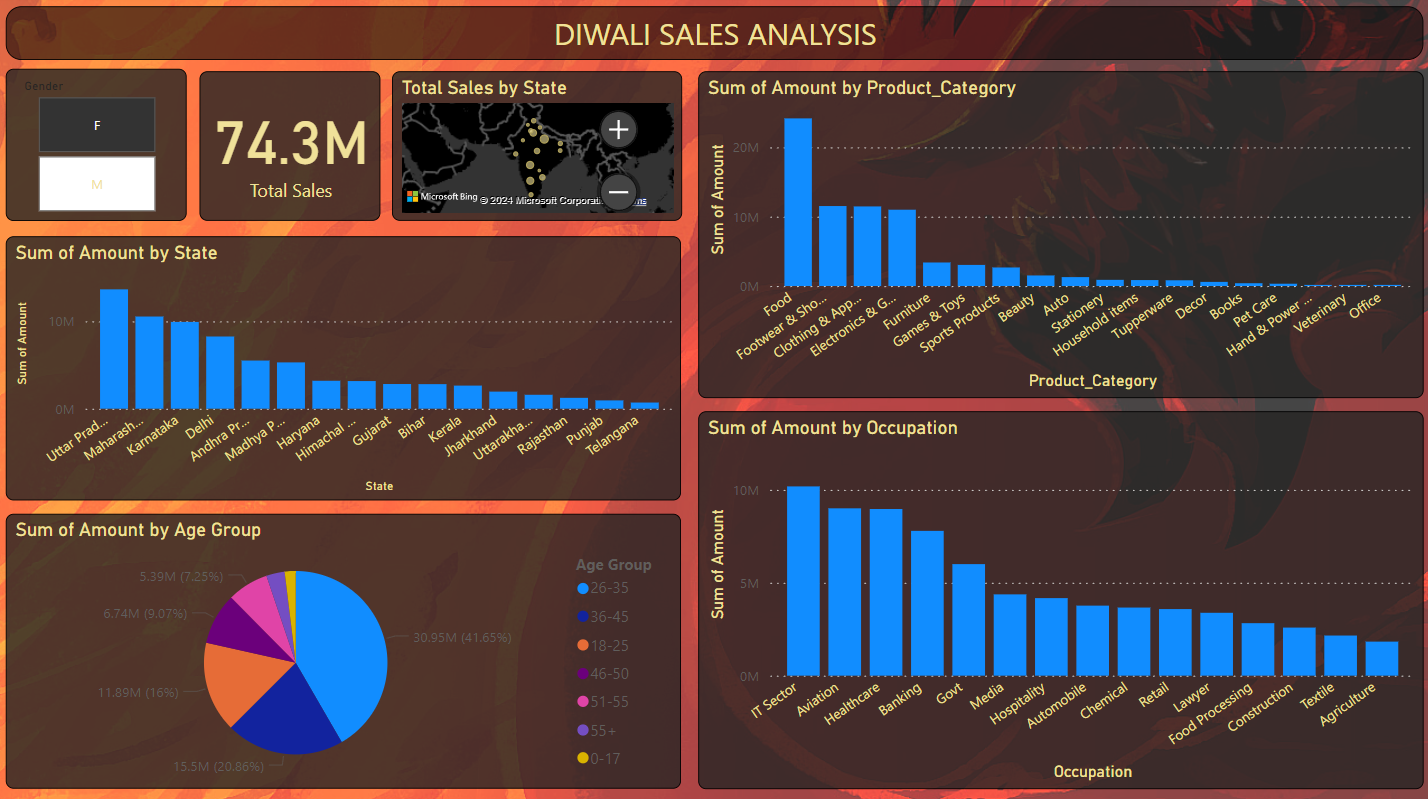

The dashboard page shown, as its layout file describes it:
{"tool":"powerbi","page":{"name":"Page 1","canvas":[1280,720],"ordinal":0},"visuals":[{"type":"slicer","fields":{"Values":["Diwali Sales Data.Gender"]},"box":[8.1,66.3,161.6,136],"z":0},{"type":"textbox","box":[8,10,1266.3,47.7],"z":1000},{"type":"columnChart","fields":{"Category":["Diwali Sales Data.Occupation"],"Y":["Sum(Diwali Sales Data.Amount)"]},"box":[626.7,372.1,647.7,337.2],"z":3000},{"type":"card","fields":{"Values":["Sum(Diwali Sales Data.Amount)"]},"box":[181.4,68.6,161.6,133.7],"z":4000},{"type":"pieChart","fields":{"Category":["Diwali Sales Data.Age Group"],"Y":["Sum(Diwali Sales Data.Amount)"]},"box":[8.1,464,603.5,245.3],"z":5000},{"type":"columnChart","fields":{"Category":["Diwali Sales Data.Product_Category"],"Y":["Sum(Diwali Sales Data.Amount)"]},"box":[626.7,68.6,647.7,291.9],"z":6000},{"type":"columnChart","fields":{"Category":["Diwali Sales Data.State"],"Y":["Sum(Diwali Sales Data.Amount)"]},"box":[8.1,215.1,603.5,236],"z":6001},{"type":"map","fields":{"Size":["Sum(Diwali Sales Data.Amount)"],"Category":["Diwali Sales Data.State"]},"box":[352.3,68.6,259.3,133.7],"z":6002}]}

Visuals, with their boxes in screenshot pixels (x1, y1, x2, y2), scaled from the page's 1280x720 canvas onto the 1428x799 screenshot:
slicer - Diwali Sales Data.Gender: BBox(9, 74, 189, 224)
textbox: BBox(9, 11, 1422, 64)
columnChart - Diwali Sales Data.Occupation x Sum(Diwali Sales Data.Amount): BBox(699, 413, 1422, 787)
card - Sum(Diwali Sales Data.Amount): BBox(202, 76, 383, 224)
pieChart - Diwali Sales Data.Age Group x Sum(Diwali Sales Data.Amount): BBox(9, 515, 682, 787)
columnChart - Diwali Sales Data.Product_Category x Sum(Diwali Sales Data.Amount): BBox(699, 76, 1422, 400)
columnChart - Diwali Sales Data.State x Sum(Diwali Sales Data.Amount): BBox(9, 239, 682, 501)
map - Sum(Diwali Sales Data.Amount) x Diwali Sales Data.State: BBox(393, 76, 682, 224)
